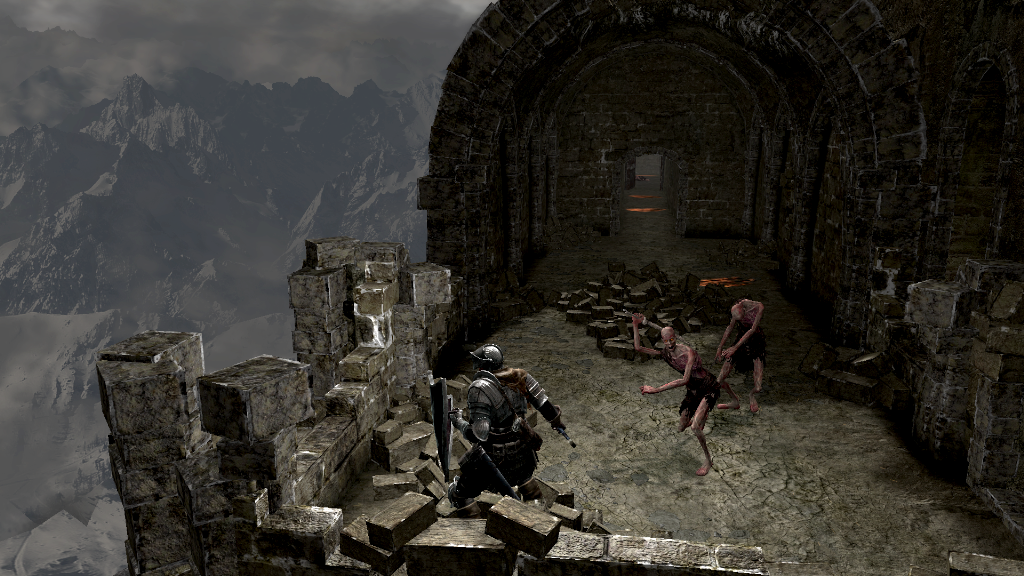hollow: (629, 310, 720, 479), (717, 298, 765, 417)
player: (426, 344, 579, 503)
